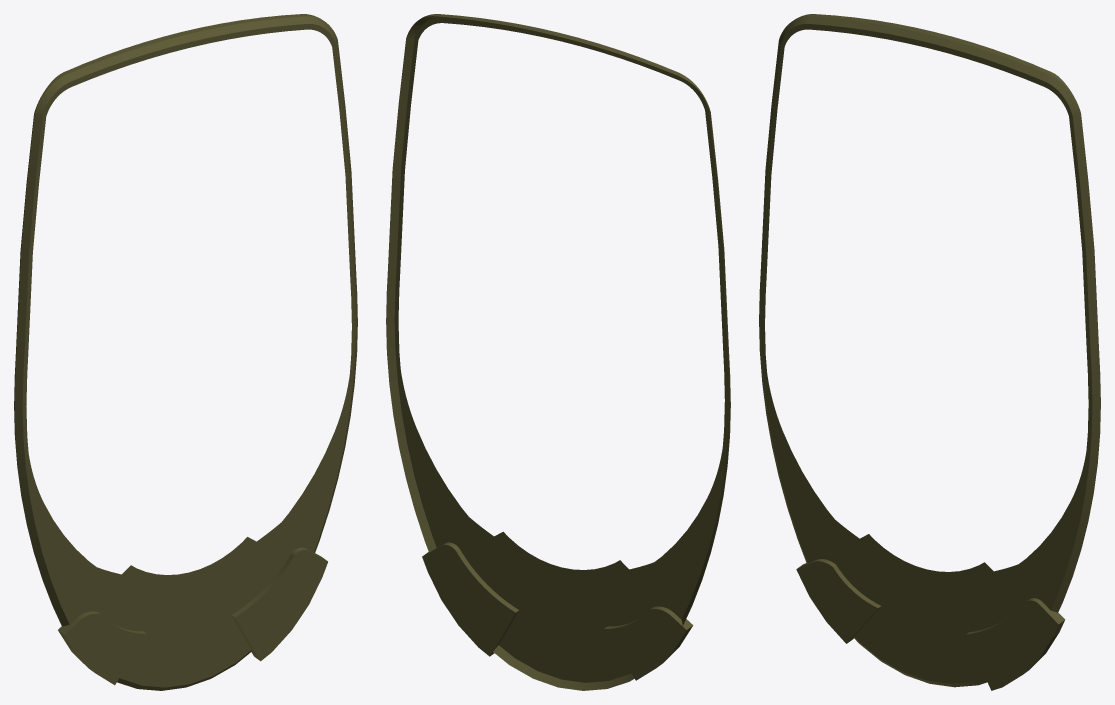
Rendered from original-3.obj.
3 views of the same model, side by side, from view 1: azimuth 30°, elevation 25°; view 2: azimuth 150°, elevation 25°; view 3: azimuth 330°, elevation 25° (orthographic).
Parts seen in each view (by area): view 1: #ID17; view 2: #ID17; view 3: #ID17.
Part boxes in pixels (<box>): #ID17: <box>14,14,357,690</box>; #ID17: <box>386,14,730,690</box>; #ID17: <box>759,14,1100,690</box>.
Size of the model in its own units: 0.7367 by 1.34 by 0.0381.
